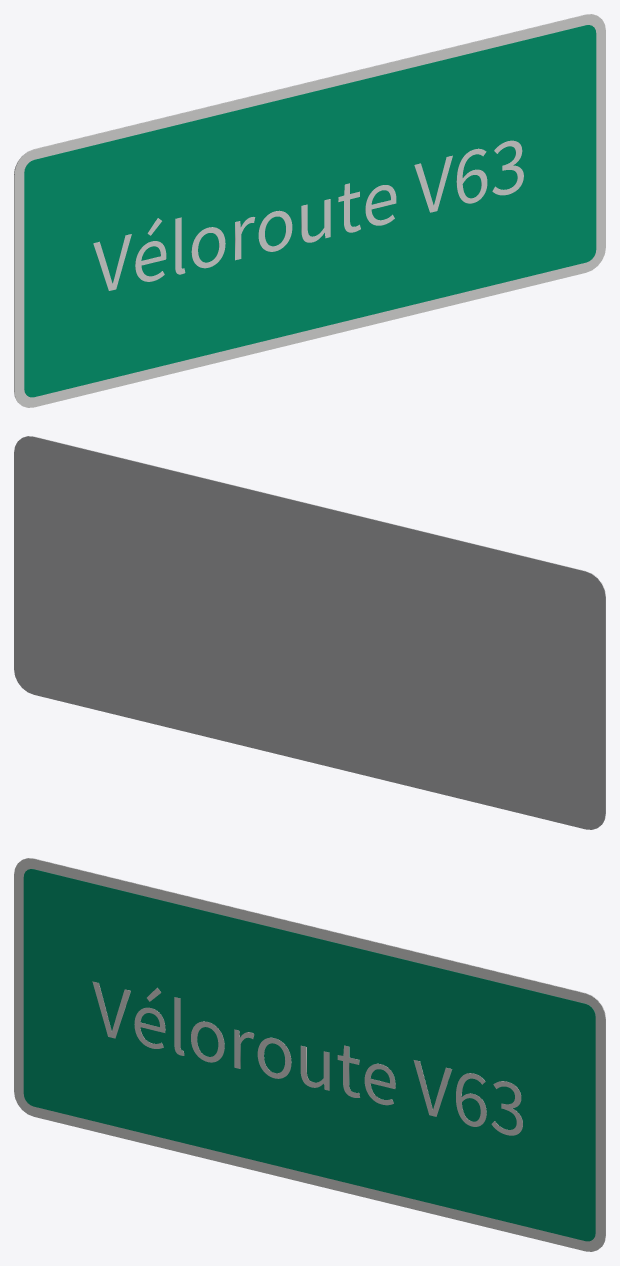
3 views of the same model, one above another, from view 1: azimuth 30°, elevation 25°; view 2: azimuth 150°, elevation 25°; view 3: azimuth 330°, elevation 25° (orthographic).
Parts seen in each view (by area): view 1: Dv12_fond01, Dv12_cadre00, Dv12_txt02, Dv12_dos; view 2: Dv12_dos; view 3: Dv12_fond01, Dv12_cadre00, Dv12_txt02, Dv12_dos.
Part boxes in pixels (x1,y1,x2,y2): Dv12_fond01: [24, 25, 596, 397]; Dv12_cadre00: [14, 14, 605, 407]; Dv12_txt02: [93, 140, 523, 290]; Dv12_dos: [14, 14, 596, 401]; Dv12_dos: [14, 436, 605, 829]; Dv12_fond01: [23, 869, 595, 1241]; Dv12_cadre00: [14, 858, 605, 1251]; Dv12_txt02: [92, 981, 522, 1135]; Dv12_dos: [23, 858, 605, 1245].
Bounding box in the file's own units: 1.2 × 0.5 × 0.0025.
